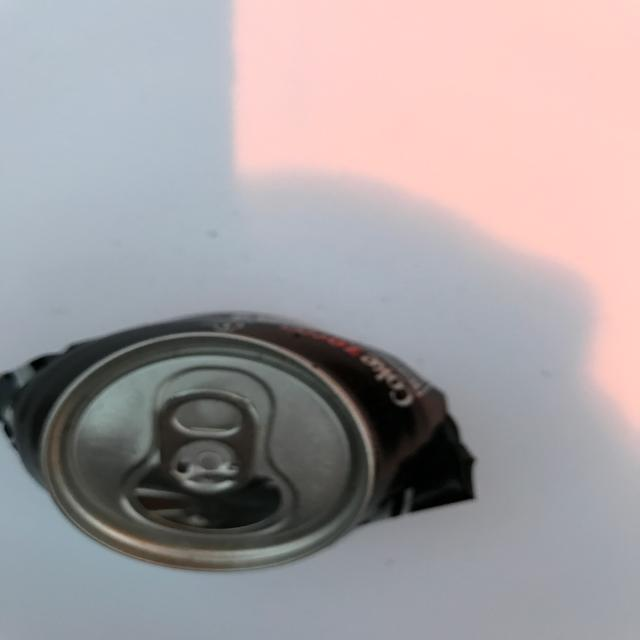metal: (2, 310, 480, 572)
